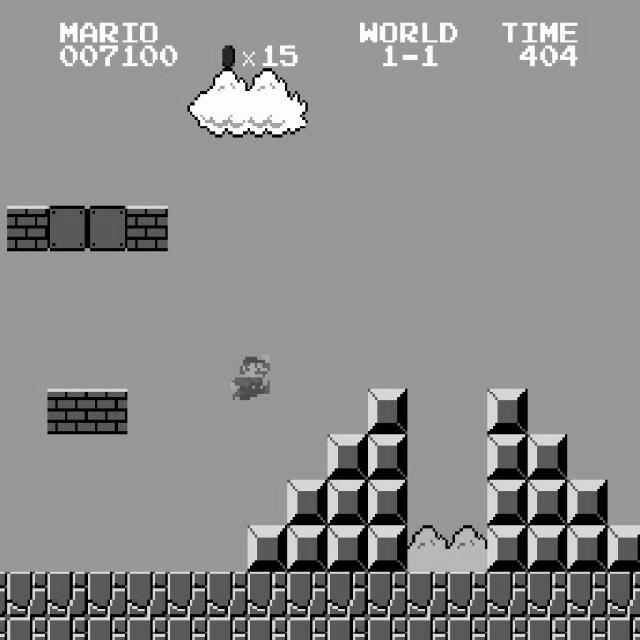1- brick_block: (47, 388, 88, 434), (87, 388, 128, 434), (7, 206, 48, 251), (127, 206, 168, 251)
11- little_mario: (228, 352, 270, 400)
17- undestructible_block: (7, 572, 48, 618), (47, 572, 88, 618), (87, 572, 128, 618), (127, 572, 168, 618), (167, 572, 208, 618), (207, 572, 248, 618), (247, 572, 288, 618), (287, 572, 328, 618), (327, 572, 368, 618), (367, 572, 408, 618), (407, 572, 448, 618), (447, 572, 488, 618), (487, 572, 528, 618), (527, 572, 568, 618), (567, 572, 608, 618), (607, 571, 640, 617), (7, 617, 48, 640), (47, 617, 88, 640), (87, 617, 128, 640), (127, 617, 168, 640), (167, 617, 208, 640), (207, 617, 248, 640), (247, 617, 288, 640), (287, 617, 328, 640), (327, 617, 368, 640), (367, 617, 408, 640), (407, 617, 448, 640), (447, 617, 488, 640), (487, 617, 528, 640), (527, 617, 568, 640), (567, 617, 608, 640), (607, 617, 640, 639), (0, 572, 7, 618), (0, 617, 7, 640)
3- empty_block: (47, 206, 88, 251), (87, 206, 128, 251)
9- hard_block: (247, 526, 288, 572), (287, 480, 328, 526), (287, 526, 328, 572), (327, 434, 368, 480), (327, 480, 368, 526), (327, 526, 368, 572), (367, 388, 408, 434), (367, 434, 408, 480), (367, 480, 408, 526), (367, 526, 408, 572), (487, 388, 528, 434), (487, 434, 528, 480), (487, 480, 528, 526), (487, 526, 528, 572), (527, 434, 568, 480), (527, 480, 568, 526), (527, 526, 568, 572), (567, 480, 608, 526), (567, 526, 608, 572), (607, 525, 640, 571)
